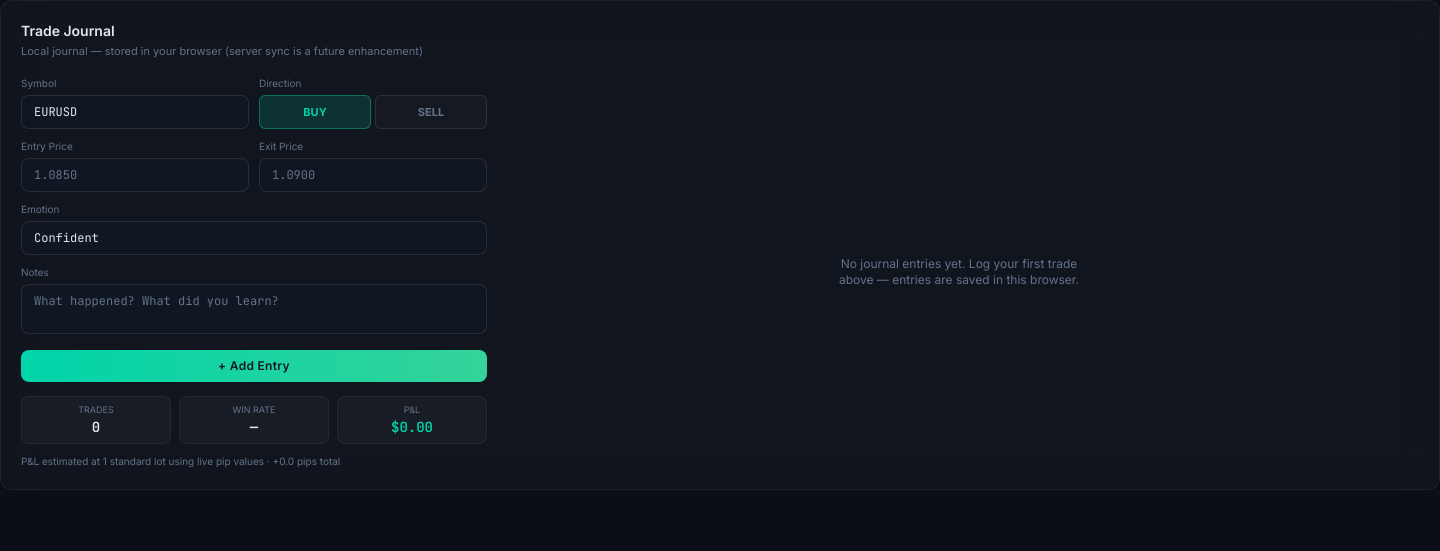
Test: TradeJournalWidget › validates entry prices before saving
The image size is (1440, 551).
Click the button "+ Add Entry".
click(254, 366)  # box [21,350,487,382]
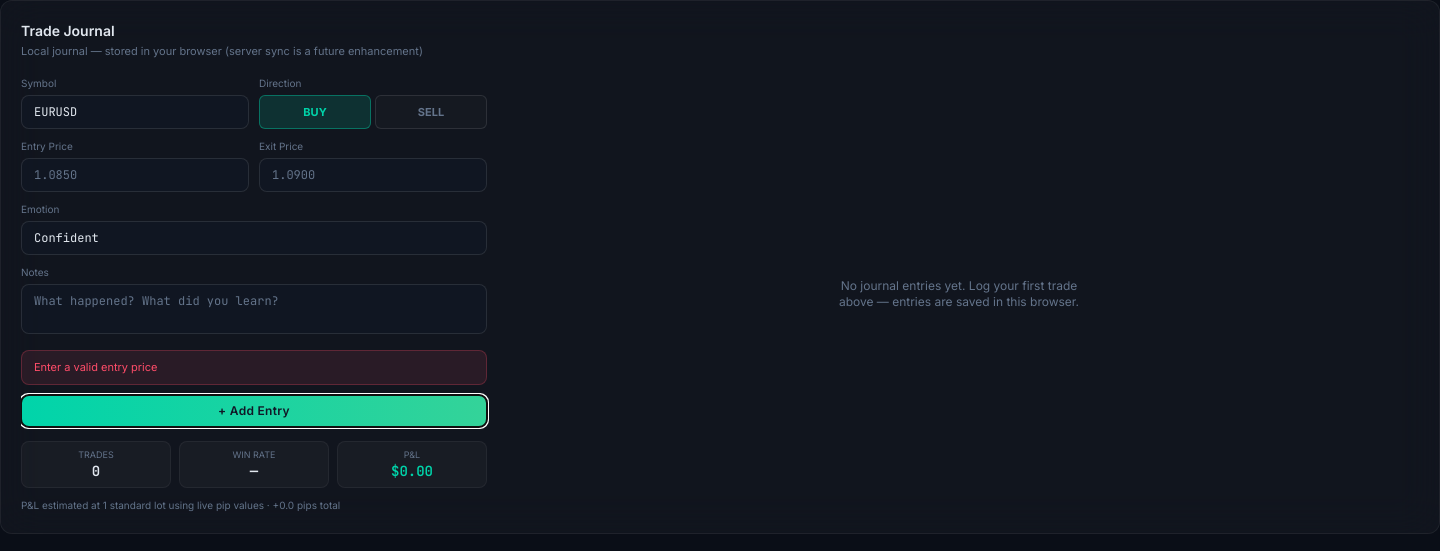
Now the text "Enter a valid entry price" is shown, box [21,350,487,384]
